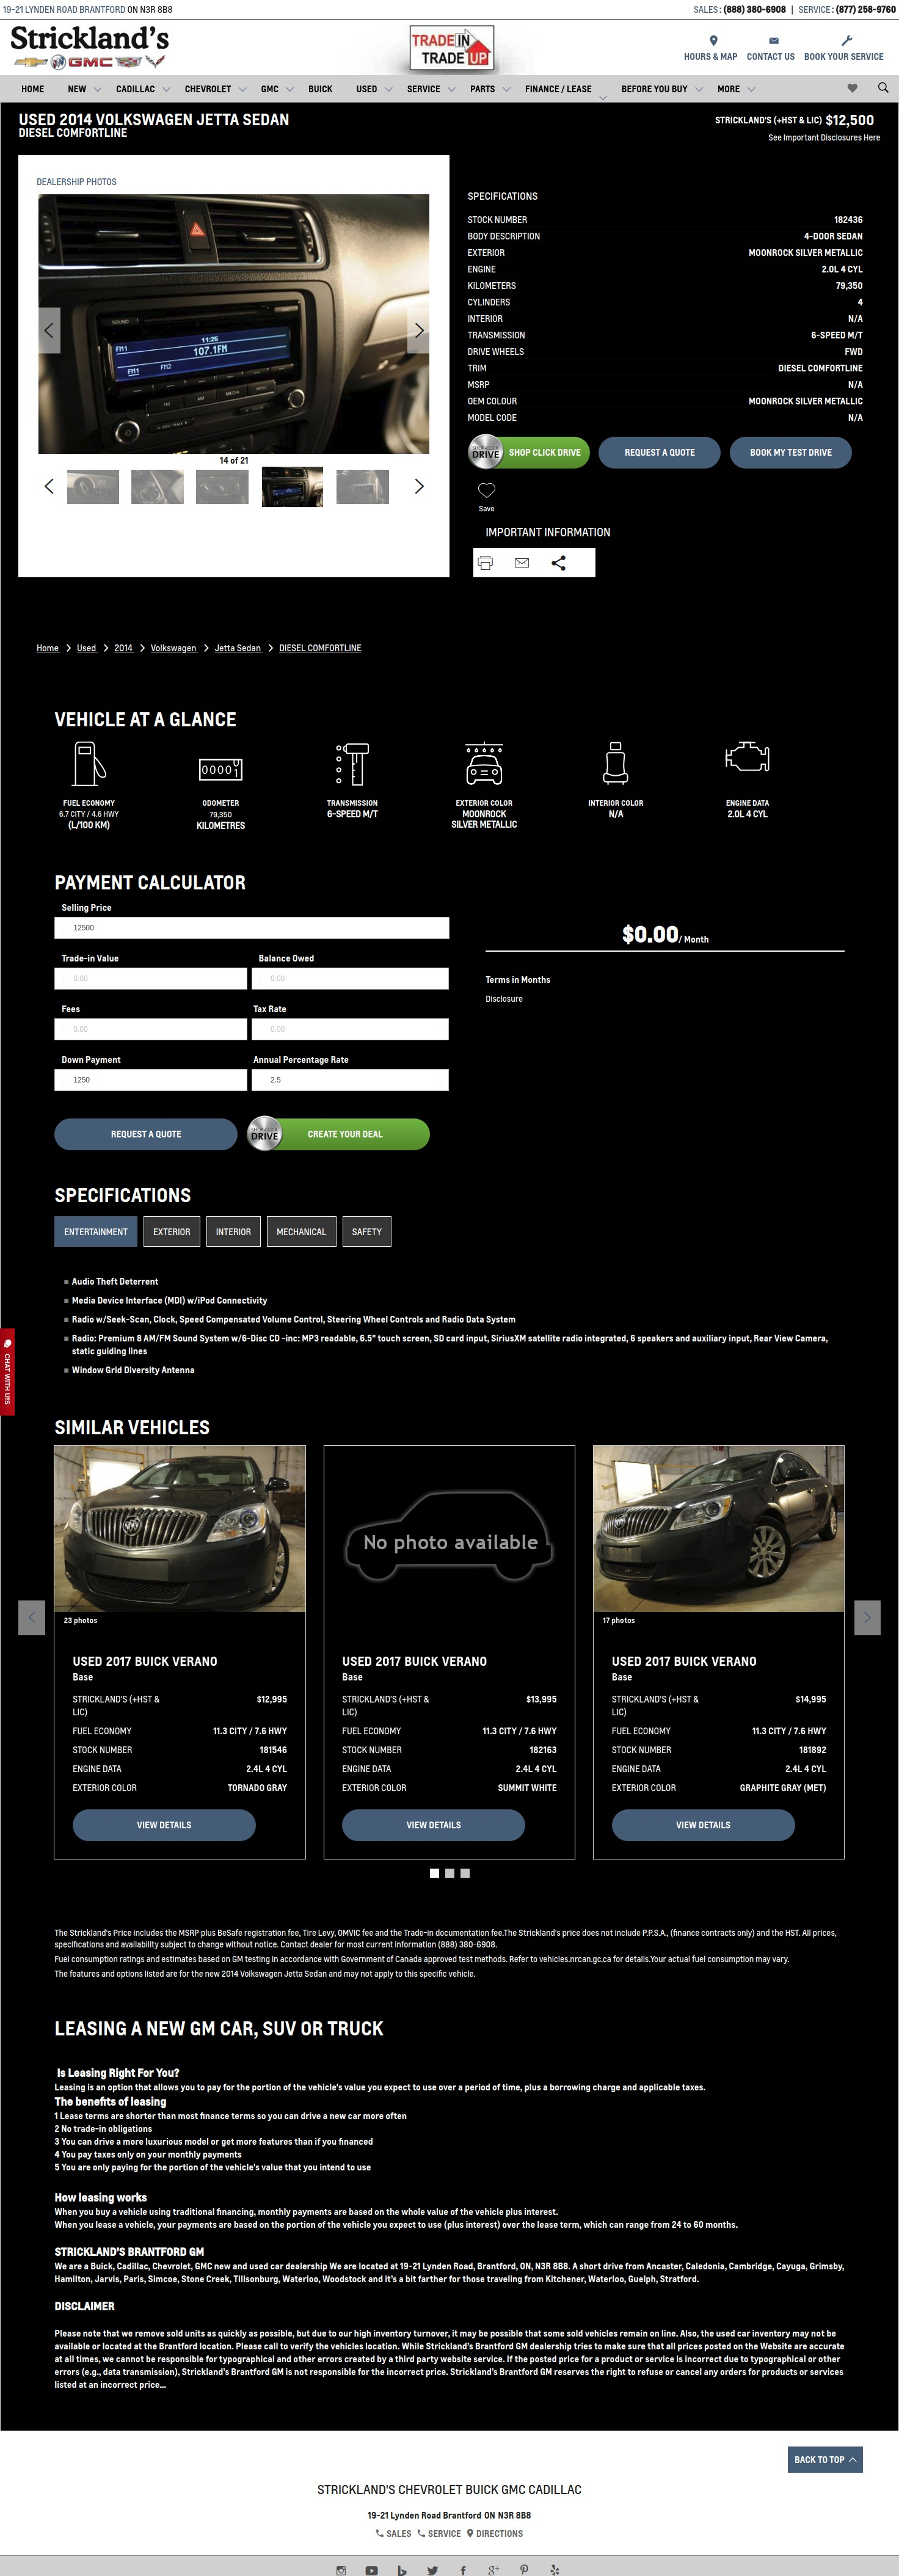car: (413, 476, 429, 498)
